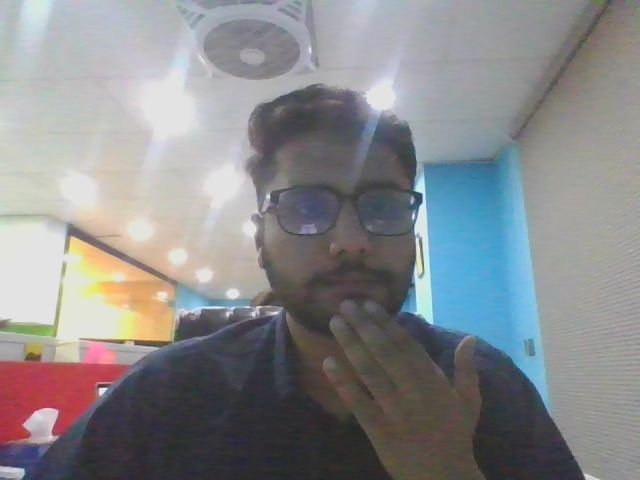thanks: (296, 292, 516, 472)
